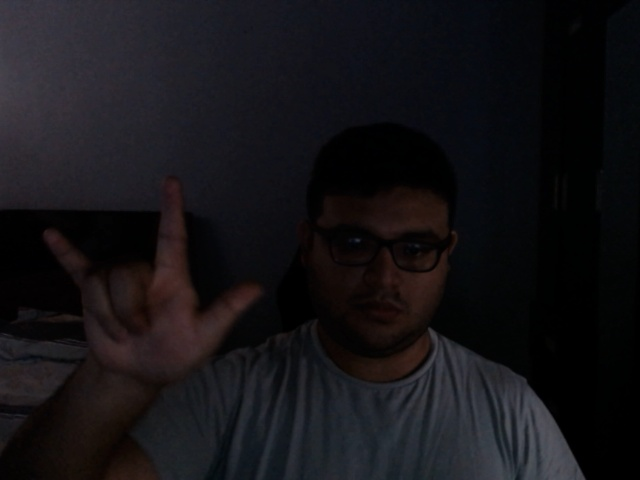I love you: (40, 177, 267, 388)
